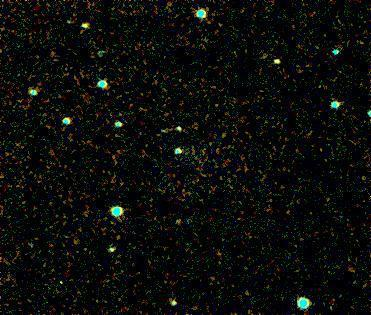star: (51, 266, 81, 296)
